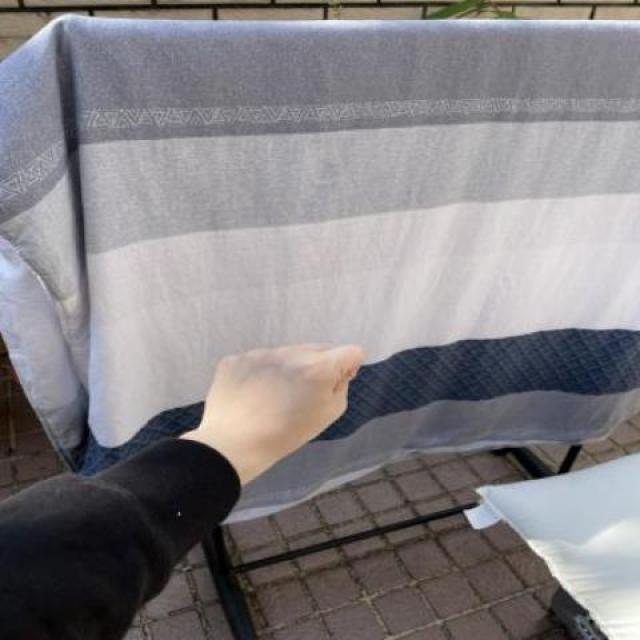fist: (197, 341, 370, 464)
